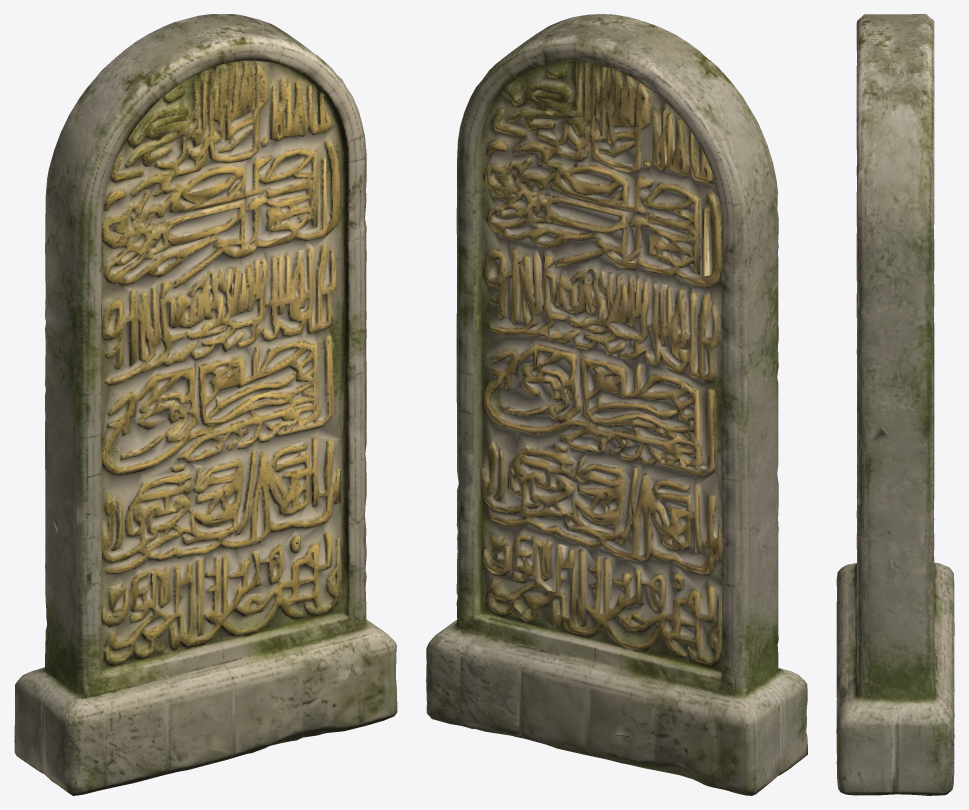
File: Arabic_Calligraphy_St.fbx
3 renders of one model, left to right at view 1: azimuth 30°, elevation 25°; view 2: azimuth 150°, elevation 25°; view 3: azimuth 270°, elevation 25°, orthographic. The views are drawn at different scales.
Visible parts, largest first — view 1: Arabic_Calligraphy_St_LOD0; view 2: Arabic_Calligraphy_St_LOD0; view 3: Arabic_Calligraphy_St_LOD0.
Boxes of the visible parts, box(x1,y1,x2,y2) form: Arabic_Calligraphy_St_LOD0: box(14, 14, 397, 795); Arabic_Calligraphy_St_LOD0: box(426, 14, 807, 795); Arabic_Calligraphy_St_LOD0: box(836, 14, 954, 795).
Size of what is drawn, in the model's own units: 0.9214 by 1.9 by 0.2937.
1 material, 1 textured.
